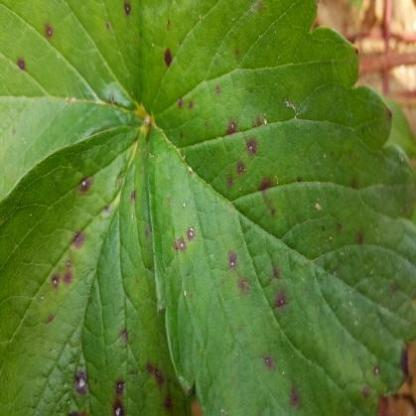Strawberry_Leaf_Spot: (140, 0, 415, 415), (0, 127, 195, 416), (0, 0, 151, 208)
